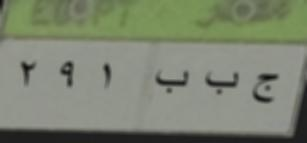1: (94, 61, 122, 93)
2: (15, 54, 44, 96)
9: (55, 54, 81, 97)
baa: (199, 67, 242, 98), (155, 67, 192, 101)
jeem: (249, 70, 286, 108)
